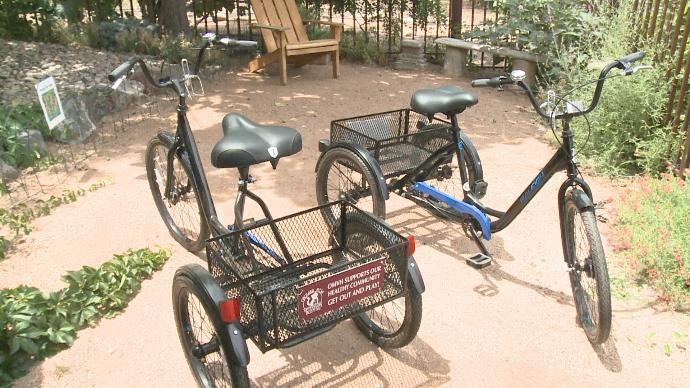handle bar: (469, 48, 658, 115), (104, 34, 268, 97)
seat: (207, 107, 312, 176), (407, 79, 485, 124)
wheel: (327, 213, 430, 354), (166, 263, 256, 388), (555, 188, 618, 362), (313, 146, 398, 261), (140, 128, 213, 252), (411, 126, 485, 222)
